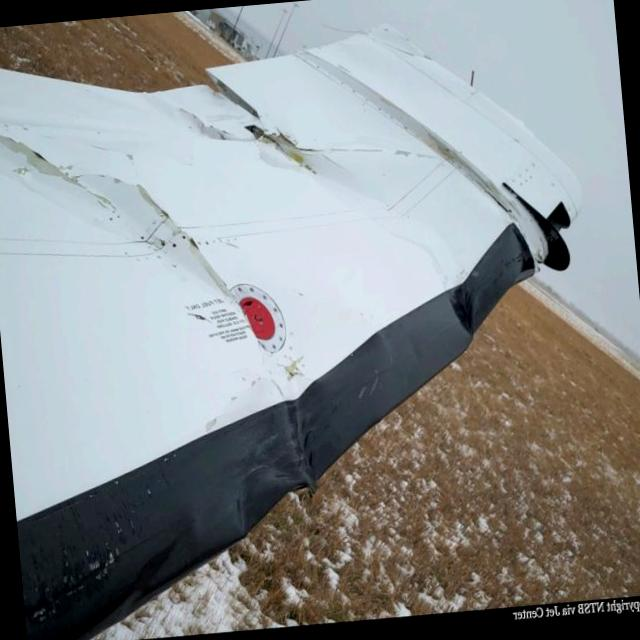crack: (175, 56, 318, 188), (132, 175, 234, 302), (0, 111, 113, 222)
